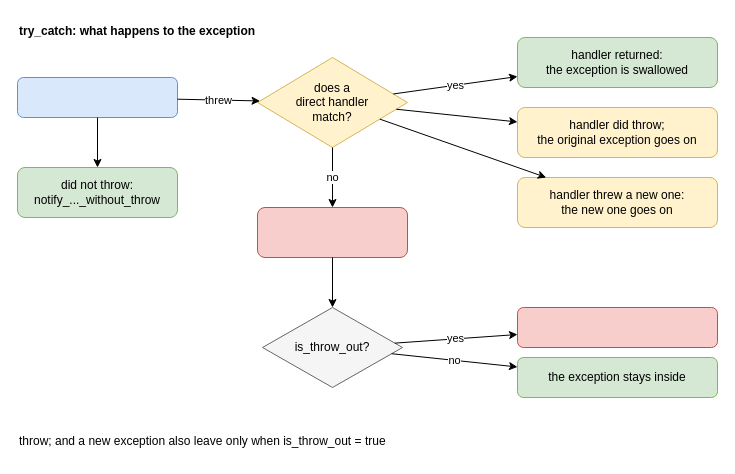
Image size: 735x474. Some labels were removed from this diagram. Here are the shapes that lost their labels. From the top down, the centre of each, then its label:
(x=97, y=97): job_that_may_throw()
(x=332, y=232): spy_handler.visit() reads the slots
(x=617, y=327): the exception leaves try_catch
